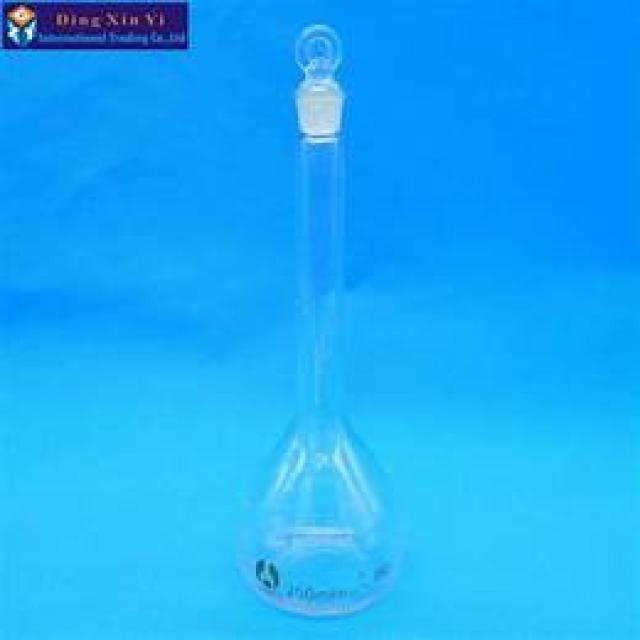Volumetric flask: (224, 22, 417, 627)
